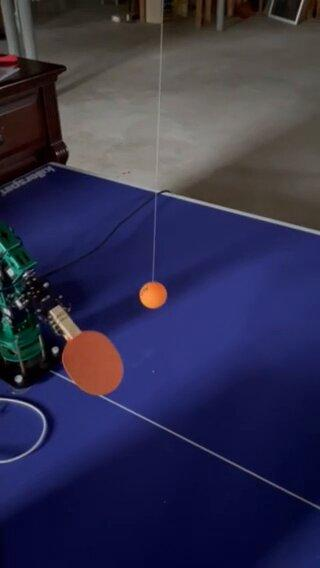oball: (139, 282, 166, 307)
